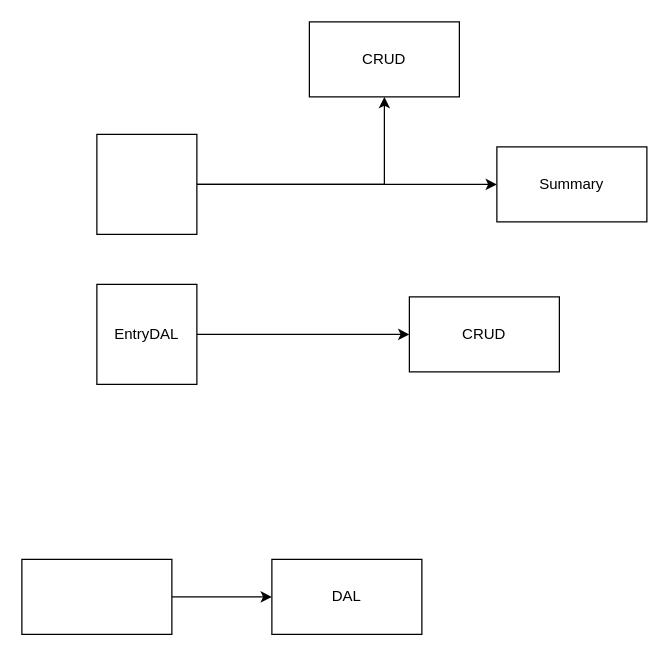
Some shapes in this 669 by 656 pixel diagram are drawn without their labels. The centre of each missing label's shape, as x and y in pixels:
ActivityDAL: the point at 146,183
Integration tests: the point at 96,596
